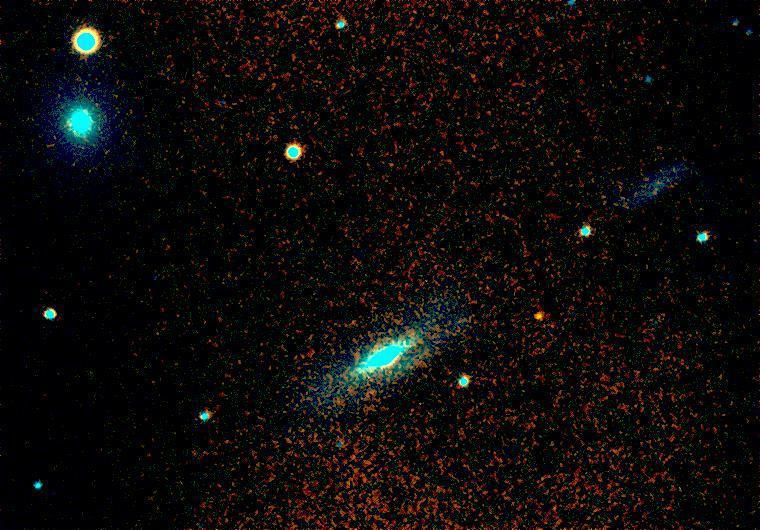star: (522, 299, 552, 329)
